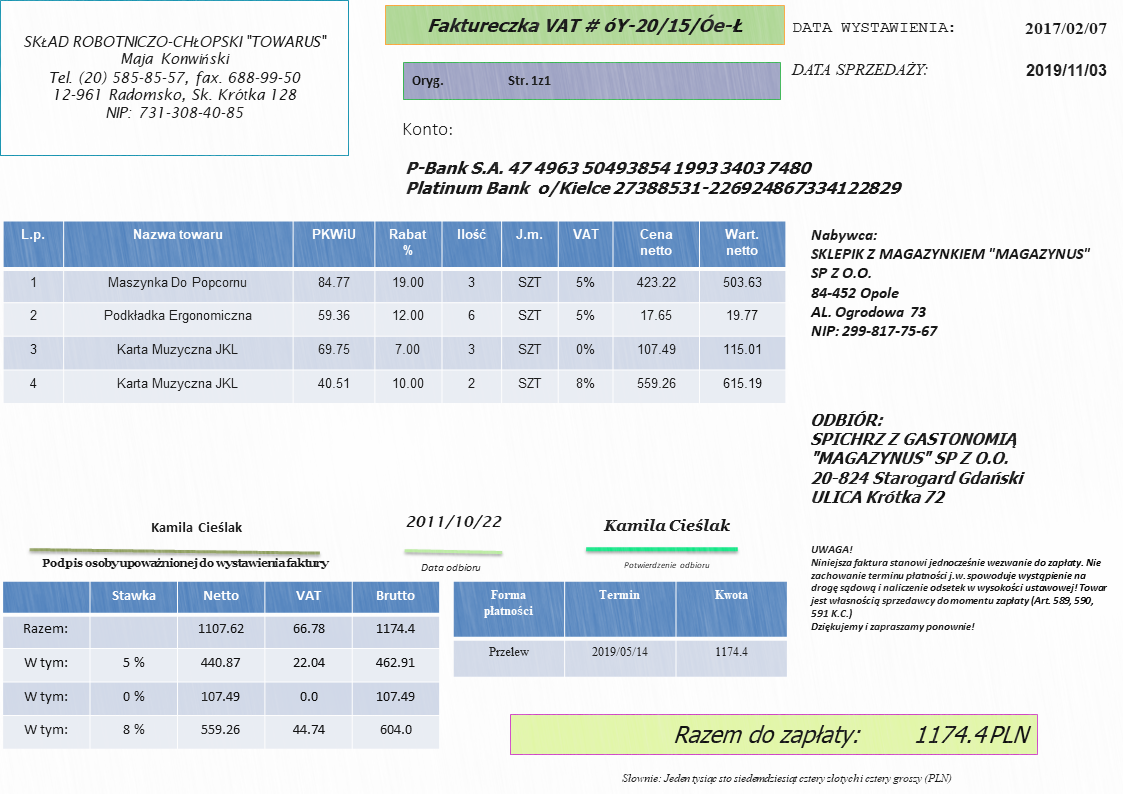Table: (2, 219, 786, 404), (2, 580, 442, 749), (452, 579, 788, 679)
TextBox: (808, 225, 1093, 341), (808, 543, 1111, 635), (21, 31, 330, 121), (810, 410, 1029, 507), (403, 157, 903, 198), (672, 718, 1034, 749), (425, 13, 746, 39), (620, 768, 954, 787), (38, 553, 331, 573), (788, 18, 957, 37), (409, 71, 552, 92), (602, 514, 734, 535), (790, 59, 931, 78), (404, 511, 504, 531), (1023, 17, 1109, 39), (1023, 59, 1109, 80), (148, 519, 244, 536), (621, 558, 711, 571), (399, 120, 454, 140), (418, 561, 481, 575)
